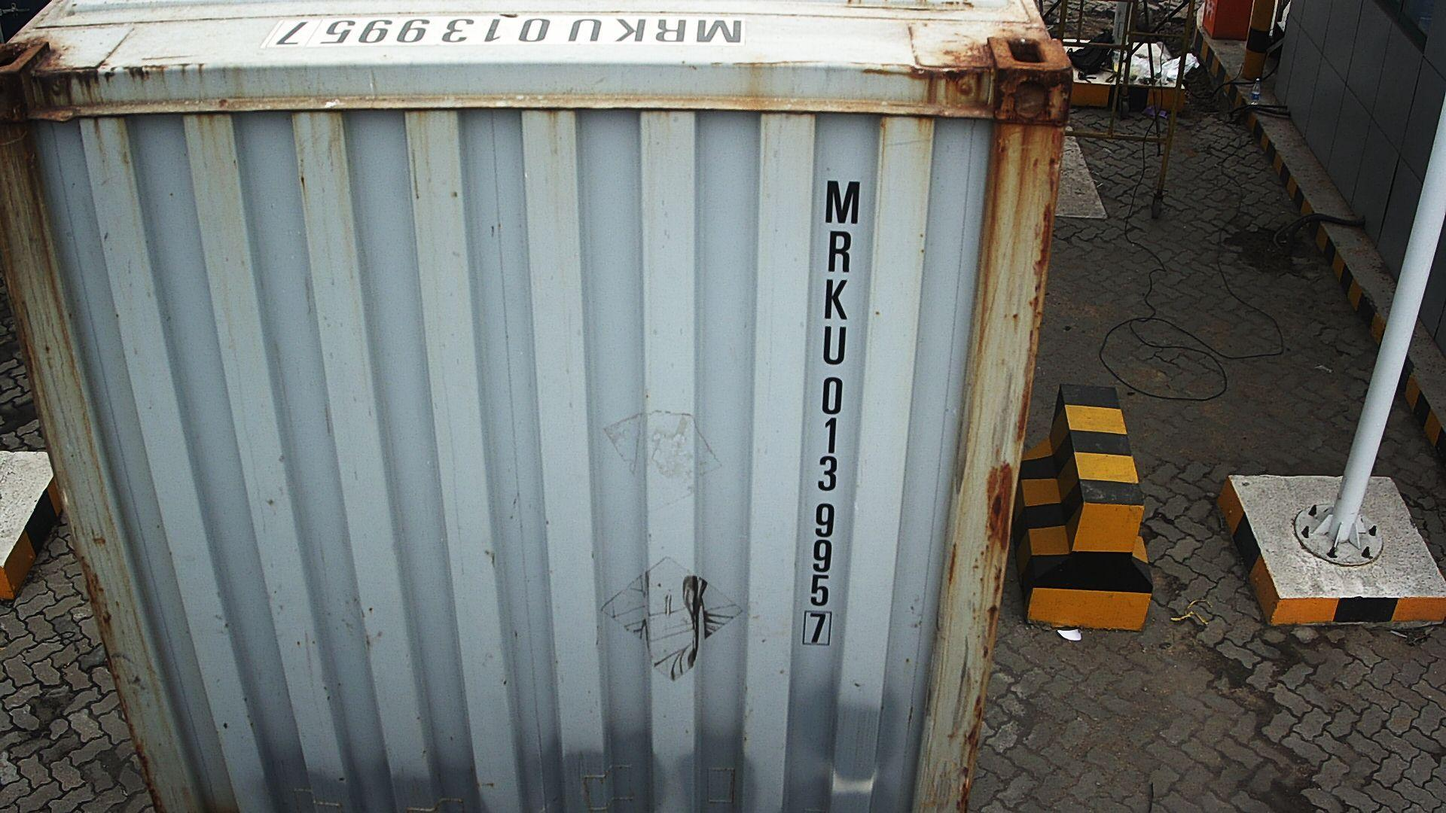container-numbers: (793, 175, 869, 657)
